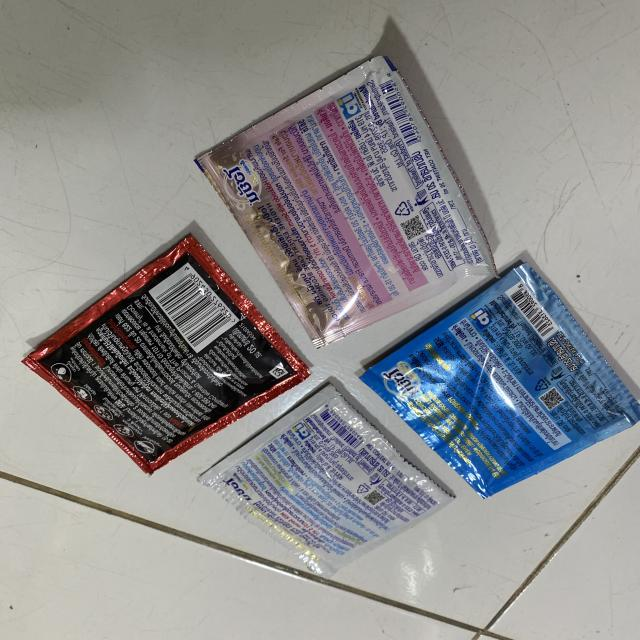plastik: (196, 57, 497, 348), (23, 237, 309, 474), (362, 264, 640, 497), (200, 386, 454, 578)
